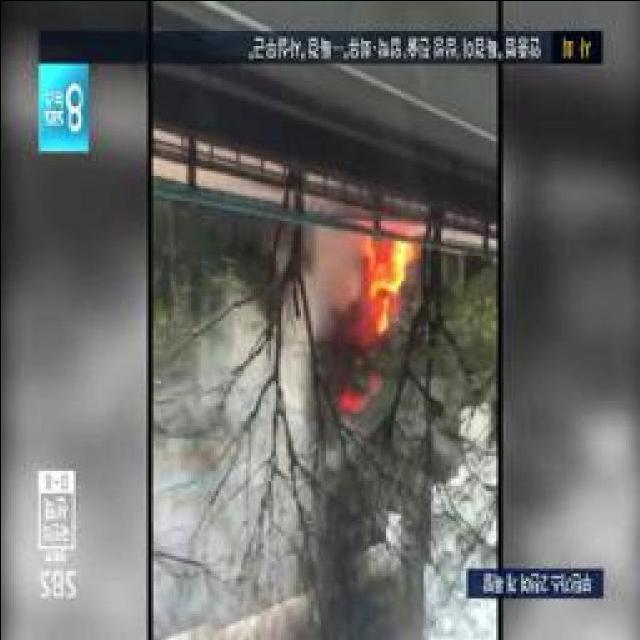Fire: (349, 234, 424, 347)
